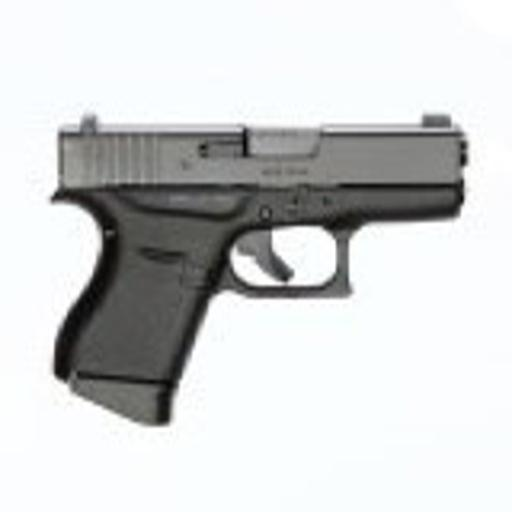Handgun: (47, 97, 472, 434)
